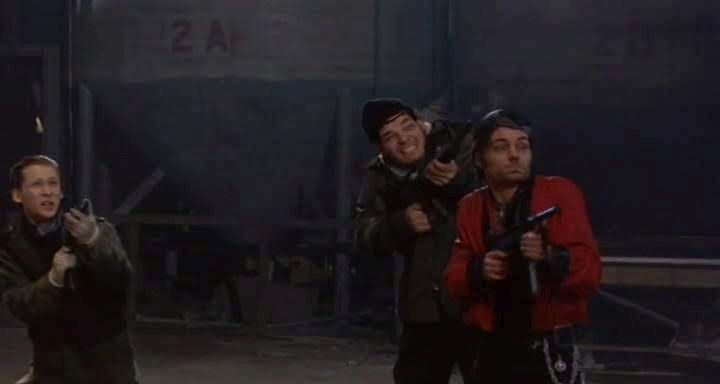gun: (487, 195, 577, 293), (404, 117, 475, 225), (51, 197, 98, 290)
